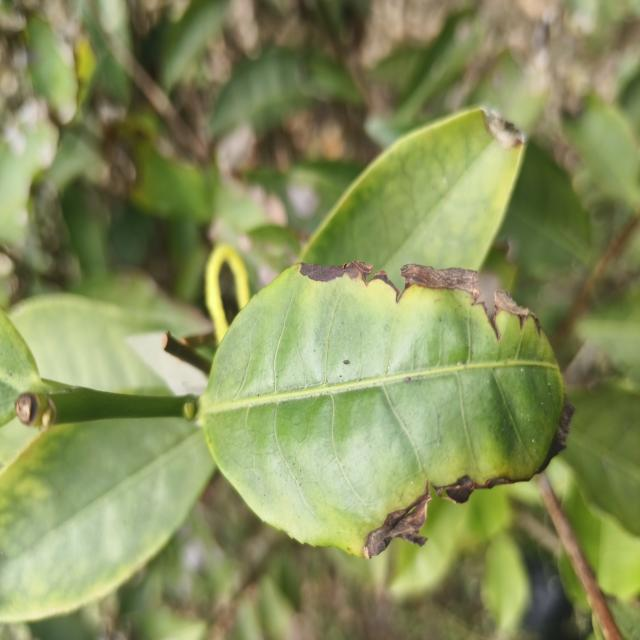Leaf: (200, 262, 568, 558), (0, 418, 214, 622), (299, 109, 524, 288), (209, 47, 362, 135), (500, 142, 590, 276), (565, 386, 640, 535), (395, 12, 480, 123), (472, 21, 551, 132), (564, 97, 640, 208), (161, 0, 228, 91), (26, 15, 78, 123), (481, 534, 530, 630)
